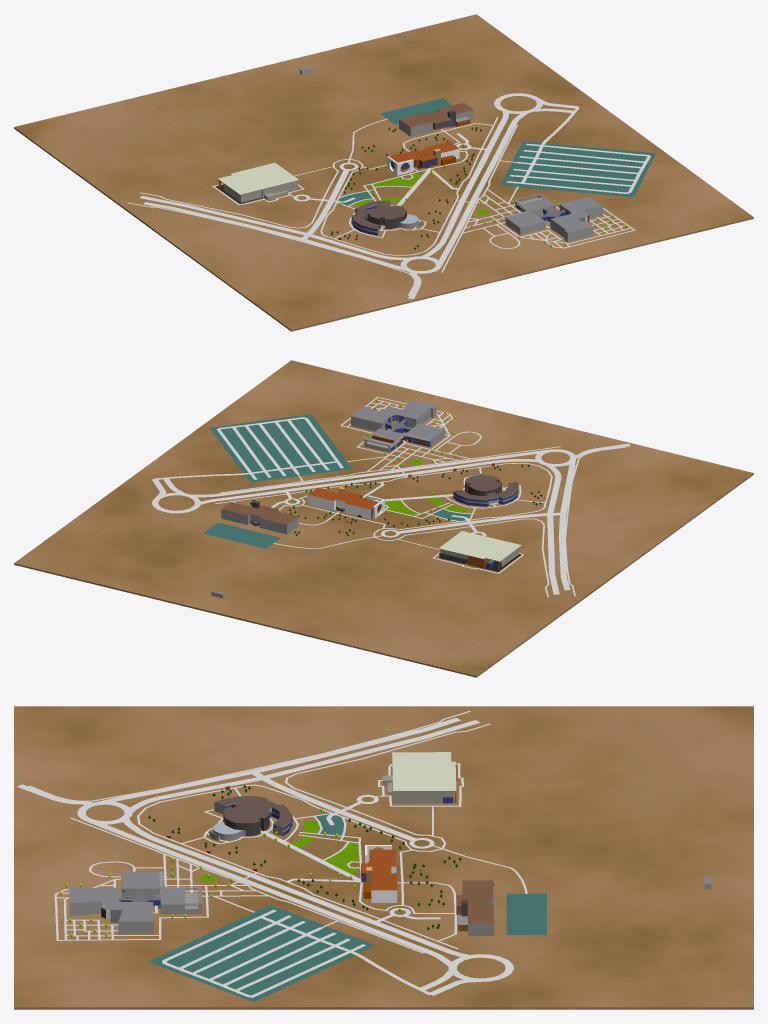
The picture shows the model from 3 angles, top to bottom: view 1: azimuth 30°, elevation 25°; view 2: azimuth 150°, elevation 25°; view 3: azimuth 270°, elevation 25°; orthographic projection. The views are drawn at different scales.
Visible parts, largest first — view 1: Terrain, estacionamientoD, Gimanasio multifincional UACJ CU.002, Edificio B, Edificio C, Edificio A, Avenida Del Desierto, Avenida Del Desierto.001, Av Del Desierto.001, Av Del Desierto, Edificio D3, estacionamientoB.001 (+4 smaller); view 2: Terrain, estacionamientoD, Gimanasio multifincional UACJ CU.002, Edificio B, Edificio C, Edificio A, Avenida Del Desierto, Avenida Del Desierto.001, estacionamientoB.001, Av Del Desierto.001, Av Del Desierto, Edificio D3 (+4 smaller); view 3: Terrain, estacionamientoD, Gimanasio multifincional UACJ CU.002, Edificio A, Avenida Del Desierto, Edificio B, Edificio C, Avenida Del Desierto.001, estacionamientoB.001, Av Del Desierto.001, Av Del Desierto, Edificio D4 (+12 smaller).
Boxes of the visible parts, x1,y1,x2,y2 form: Terrain: (14, 14, 753, 331); estacionamientoD: (500, 141, 655, 197); Gimanasio multifincional UACJ CU.002: (216, 162, 299, 203); Edificio B: (399, 103, 473, 136); Edificio C: (387, 141, 459, 175); Edificio A: (351, 200, 406, 235); Avenida Del Desierto: (436, 111, 528, 265); Avenida Del Desierto.001: (420, 111, 509, 258); Av Del Desierto.001: (139, 196, 411, 260); Av Del Desierto: (143, 202, 408, 270); Edificio D3: (550, 213, 593, 242); estacionamientoB.001: (380, 98, 452, 124); Terrain: (14, 360, 753, 677); estacionamientoD: (209, 414, 352, 482); Gimanasio multifincional UACJ CU.002: (438, 531, 521, 571); Edificio B: (221, 500, 298, 534); Edificio C: (308, 486, 384, 519); Edificio A: (453, 474, 518, 506); Avenida Del Desierto: (190, 450, 548, 497); Avenida Del Desierto.001: (198, 459, 540, 504); estacionamientoB.001: (203, 522, 280, 548); Av Del Desierto.001: (545, 464, 561, 594); Av Del Desierto: (558, 460, 575, 590); Edificio D3: (389, 400, 436, 427); Terrain: (14, 706, 753, 1009); estacionamientoD: (148, 905, 375, 1002); Gimanasio multifincional UACJ CU.002: (383, 752, 456, 803); Edificio A: (214, 796, 292, 836); Avenida Del Desierto: (90, 821, 455, 966); Edificio B: (456, 880, 493, 935); Edificio C: (361, 845, 398, 902); Avenida Del Desierto.001: (121, 818, 468, 956); estacionamientoB.001: (506, 893, 546, 934); Av Del Desierto.001: (125, 720, 480, 812); Av Del Desierto: (99, 717, 460, 804); Edificio D4: (104, 901, 153, 934).
Size of the model in its own units: 605 by 20.07 by 629.
46 materials, 1 textured.
